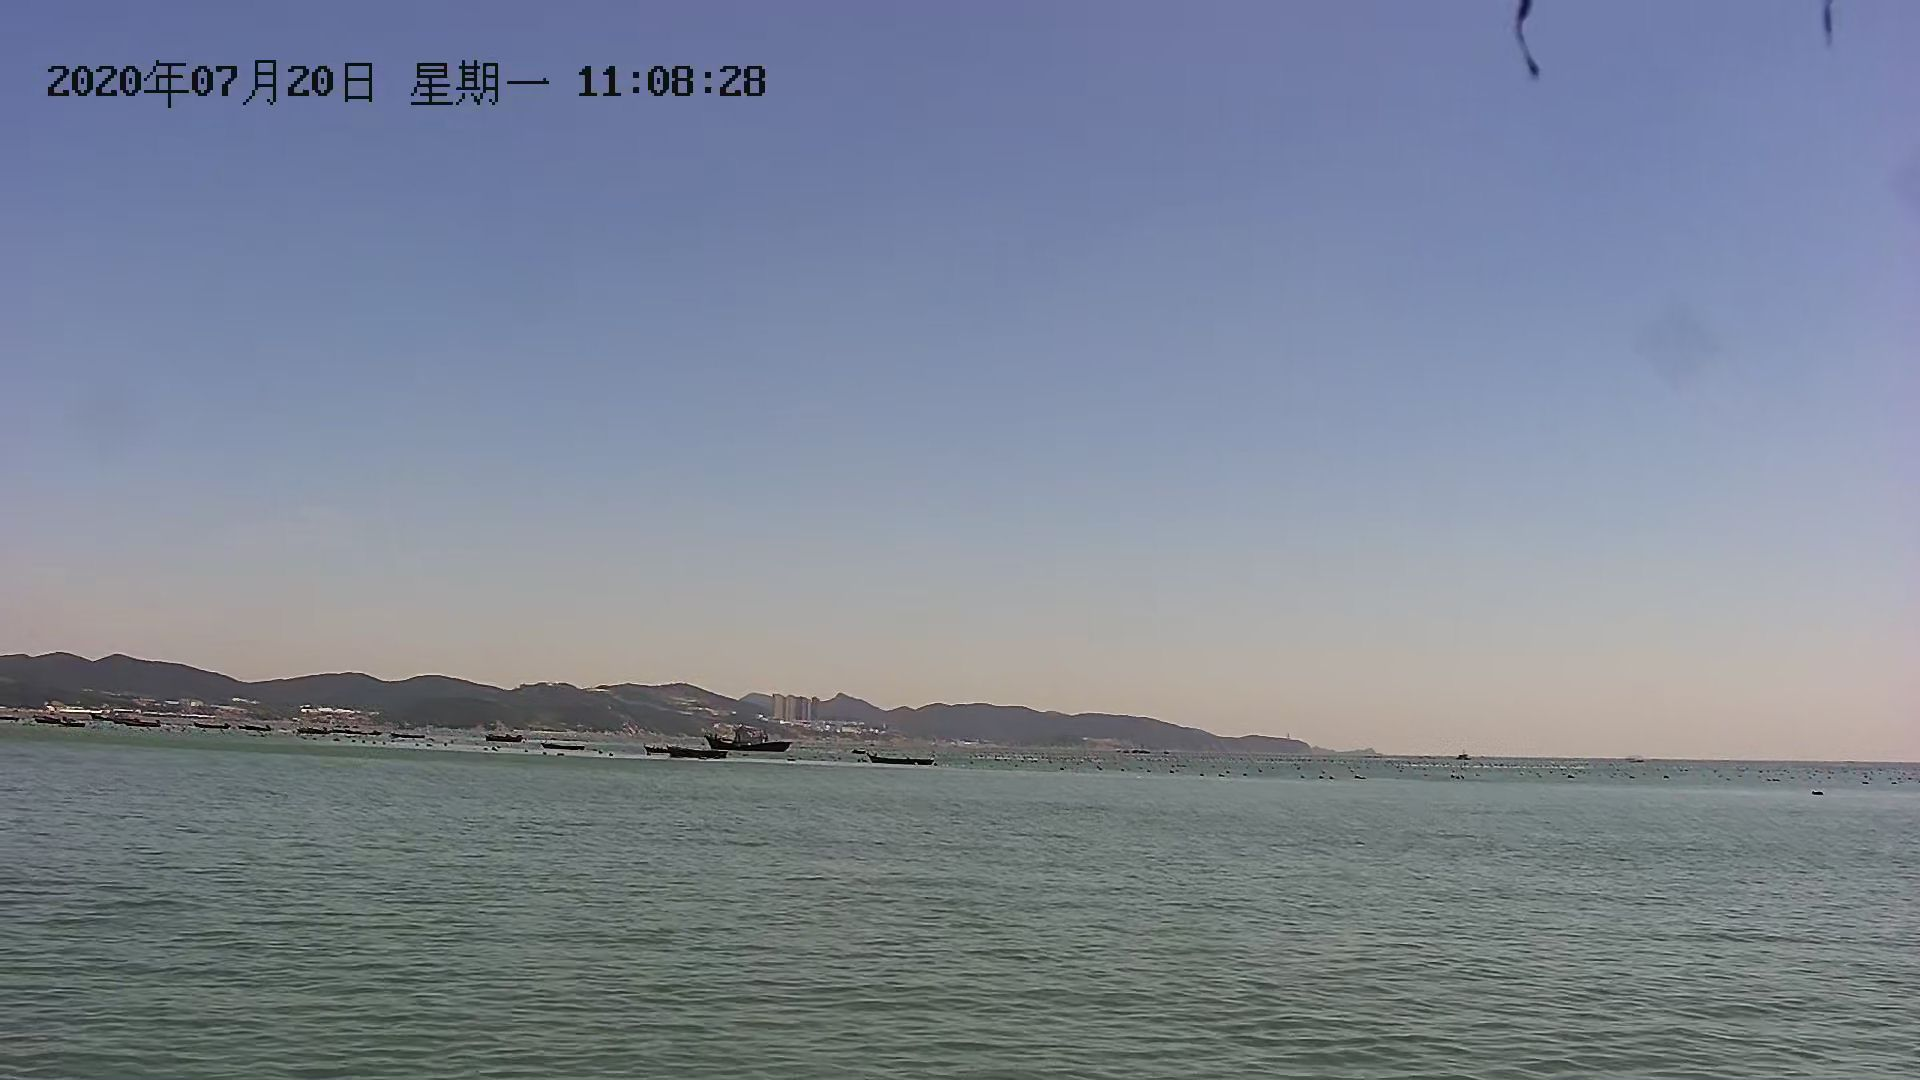boat: (712, 724, 793, 753), (644, 742, 725, 767), (866, 750, 947, 771)
